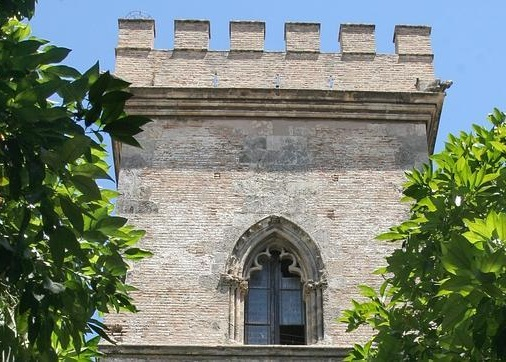arco-apuntado: (237, 226, 320, 289)
